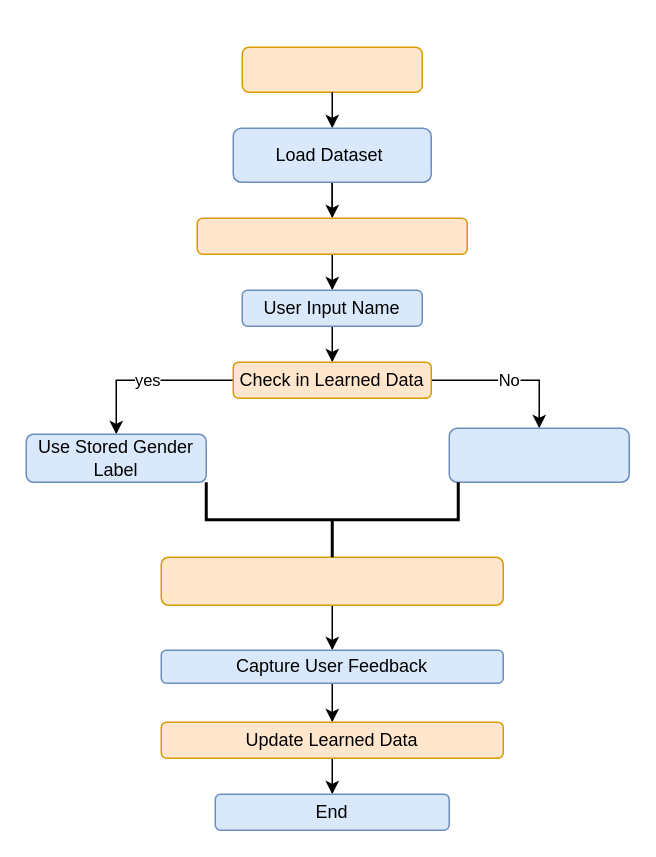
The diagram is 656 pixels wide and 857 high, and some of its shapes have lost their labels. The centre of each missing label's shape, as x and y in pixels:
Display Predicted Gender: (x=331, y=580)
Input: (x=331, y=69)
Predict with ML Model: (x=538, y=454)
Train Model with Weighted Data: (x=331, y=235)
